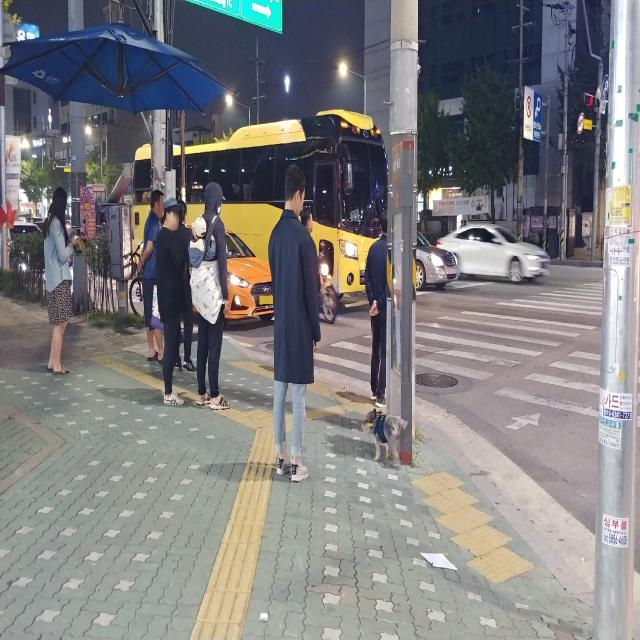횡단보도: (314, 280, 604, 430)
